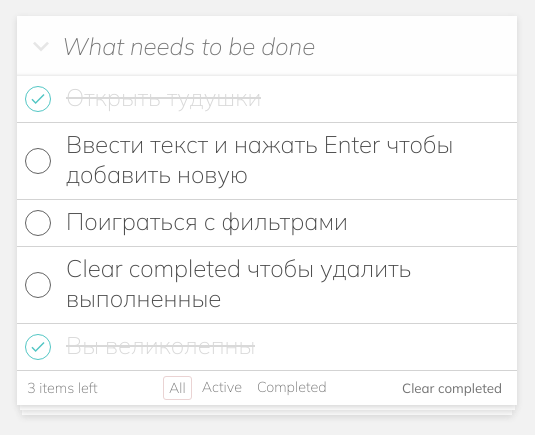
Test: Todo app test › filter todo
Check: the number of list items with class "checkList--item" is 5, box [17,76,517,122]; [17,122,517,200]; [17,200,517,246]; [17,246,517,324]; [17,324,517,370]
Click the text with class "filters__button" showing "Active": (222, 387) [202,378,242,396]
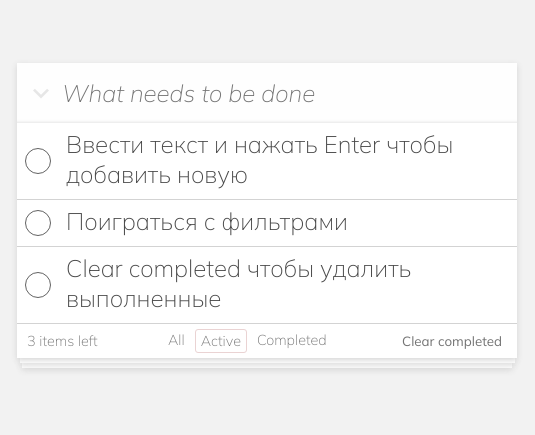
Check: the text with class "checkList--item__label" reads "Ввести текст и нажать Enter чтобы добавить новую", box [66,129,453,189]
Check: the number of list items with class "checkList--item" is 3, box [17,122,517,200]; [17,200,517,246]; [17,246,517,324]
Click the text with class "filters__button" showing "Completed": (292, 340) [252,329,332,351]
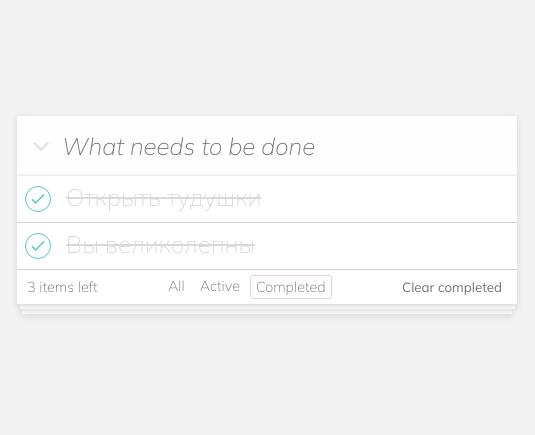
Check: the number of list items with class "checkList--item" is 2, box [17,176,517,223]; [17,223,517,270]
Check: the text with class "checkList--item__label" reads "Открыть тудушки", box [66,182,261,212]
Check: the text with class "checkList--item__label" reads "Вы великолепны", box [66,229,255,259]
